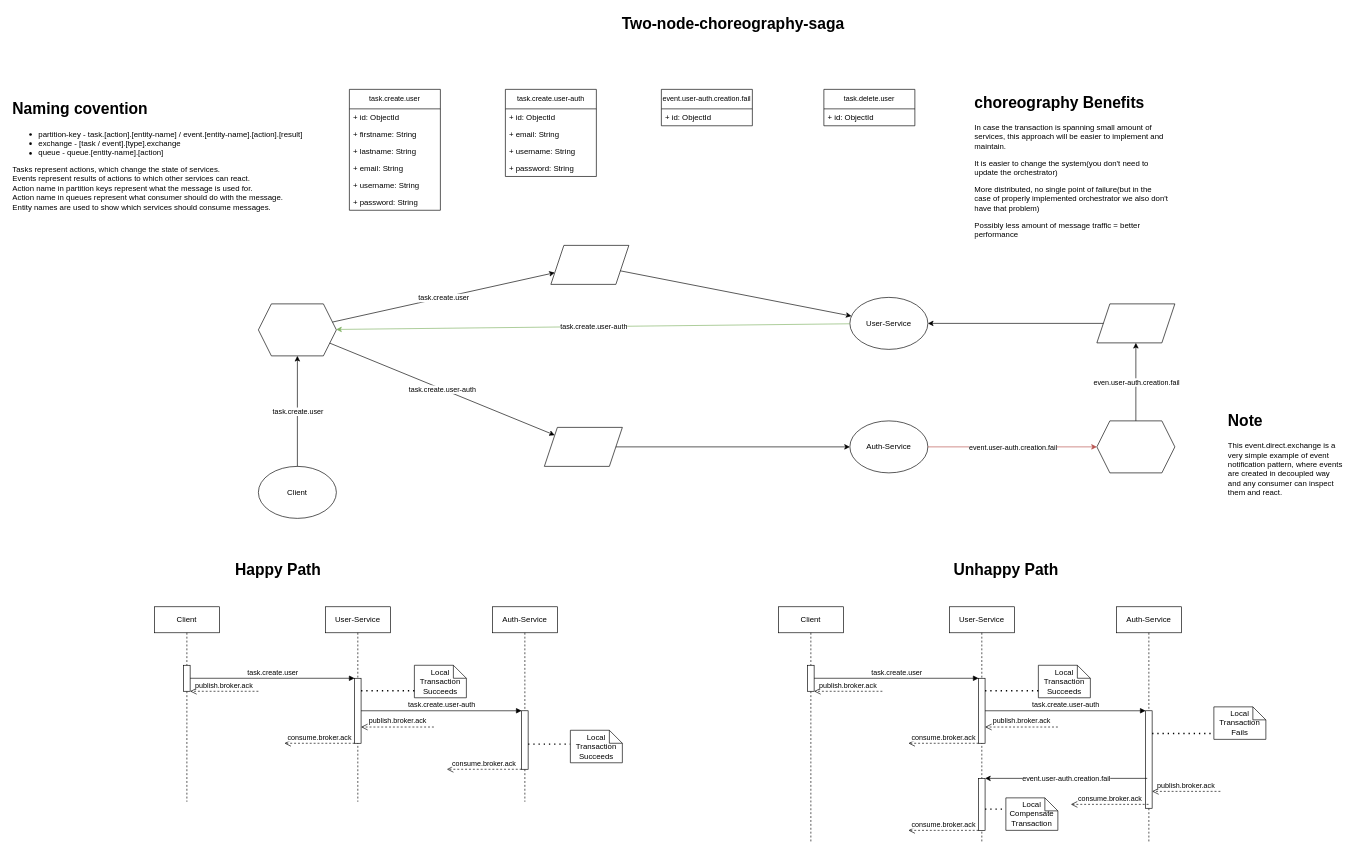
Some shapes in this 1355 by 855 pixel diagram are drawn without their labels. The box of each missing label's shape, as (x1, y1, x2, y2) in pixels:
event.direct.exchange: (1096, 420, 1175, 473)
queue.user-auth.creation: (544, 427, 622, 466)
queue.user.creation: (550, 245, 629, 284)
queue.user.creation-compensation: (1096, 303, 1175, 343)
task.direct.exchange: (258, 303, 336, 356)
